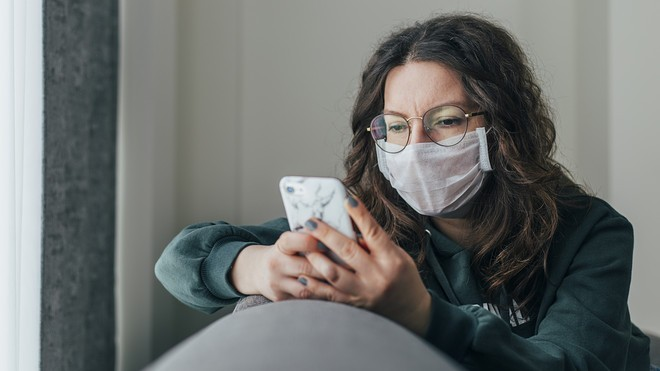with_mask: (380, 111, 490, 218)
